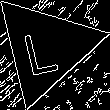L_N: (24, 19, 67, 76)
